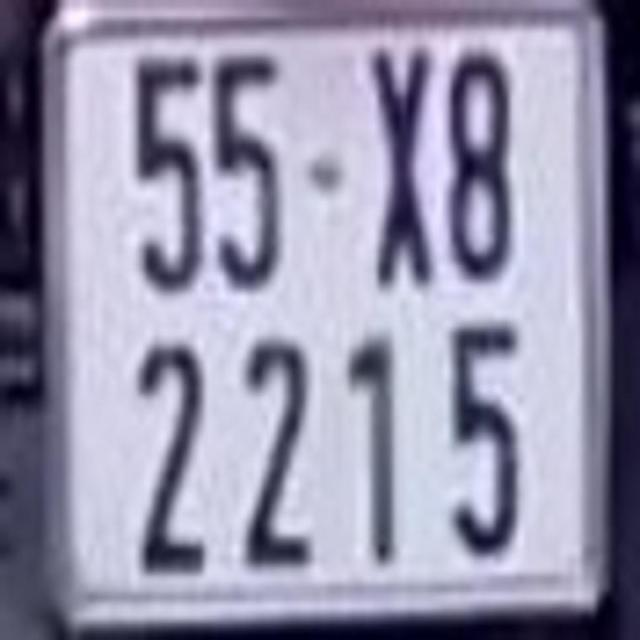1: (346, 330, 404, 569)
2: (137, 336, 208, 573), (242, 338, 314, 569)
5: (449, 322, 524, 560), (134, 51, 198, 288), (210, 51, 276, 276)
8: (449, 51, 517, 279)
X: (369, 37, 434, 286)
